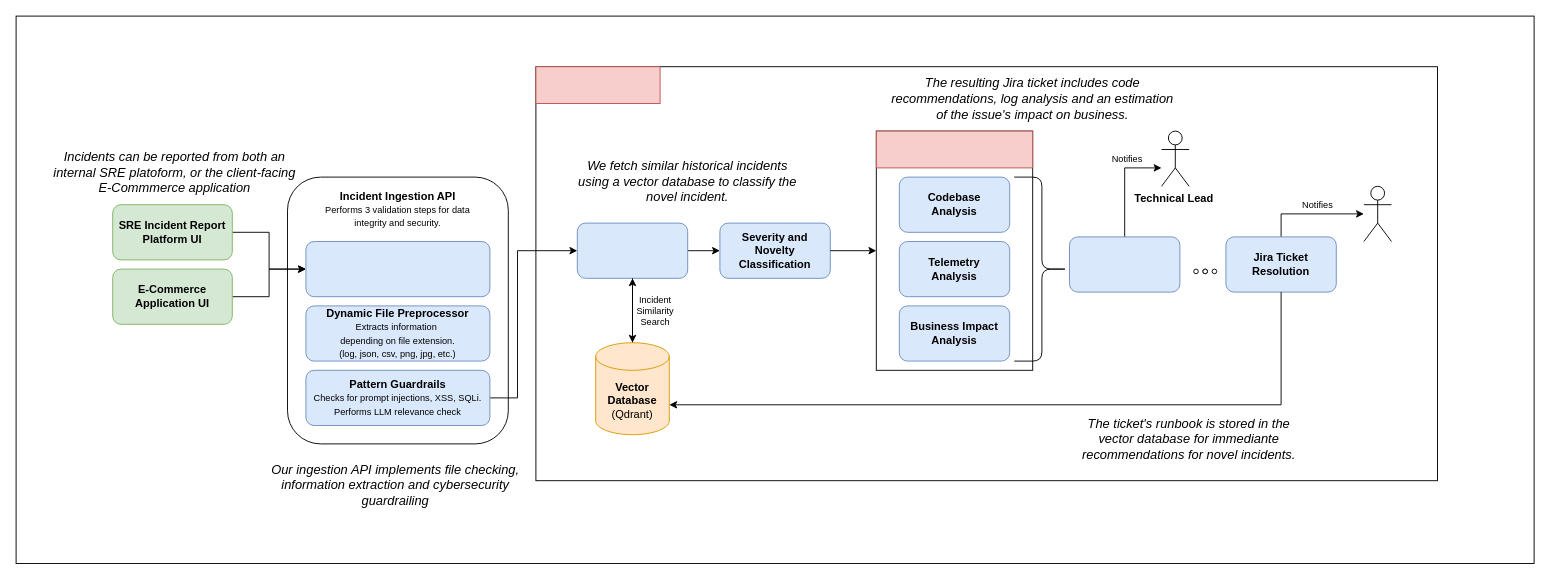
This 1550x580 diagram has some shape labels left out. Each missing label, with the box of its shape:
Agentic Researcher: (875, 130, 1033, 168)
Agentic Workflow: (535, 66, 660, 104)
Historical Incidents Search Retrieval + Reranking: (576, 222, 688, 278)
Input Guardrails MIME Checking, File Extensions Whitelist: (305, 241, 490, 297)
Jira Ticket Construction: (1069, 236, 1180, 292)
SRE: (1363, 185, 1392, 242)
